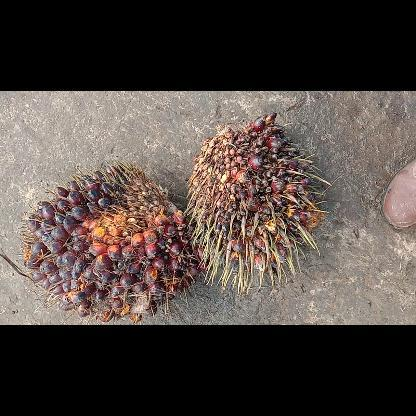Kurang masak: (18, 162, 208, 324)
TBS abnormal: (183, 112, 330, 296)
